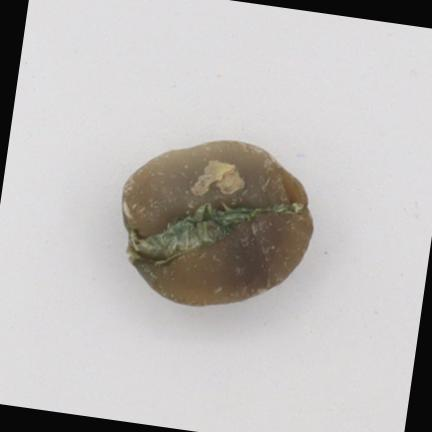partial-black: (121, 141, 311, 305)
